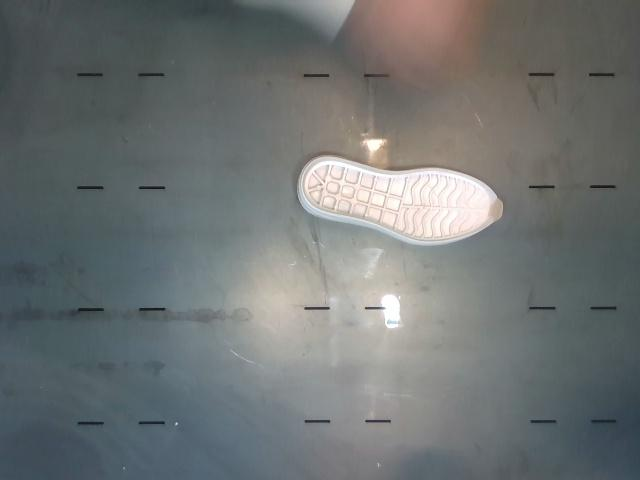shoes: (301, 157, 503, 242)
